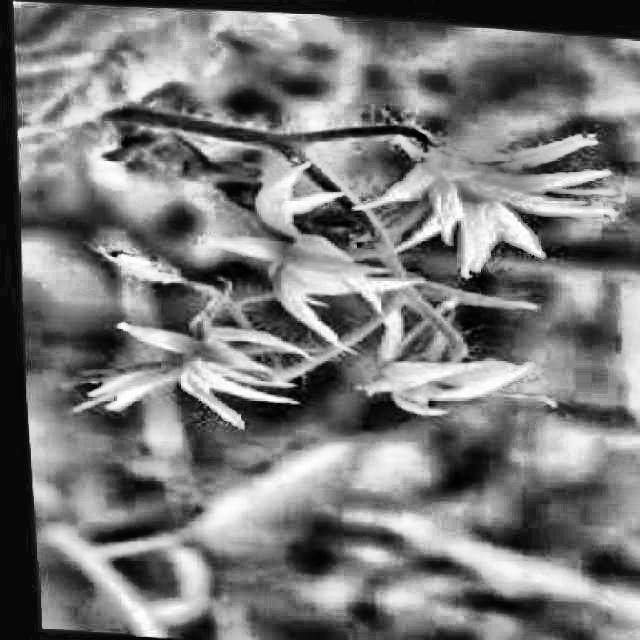plants: (9, 38, 638, 464)
